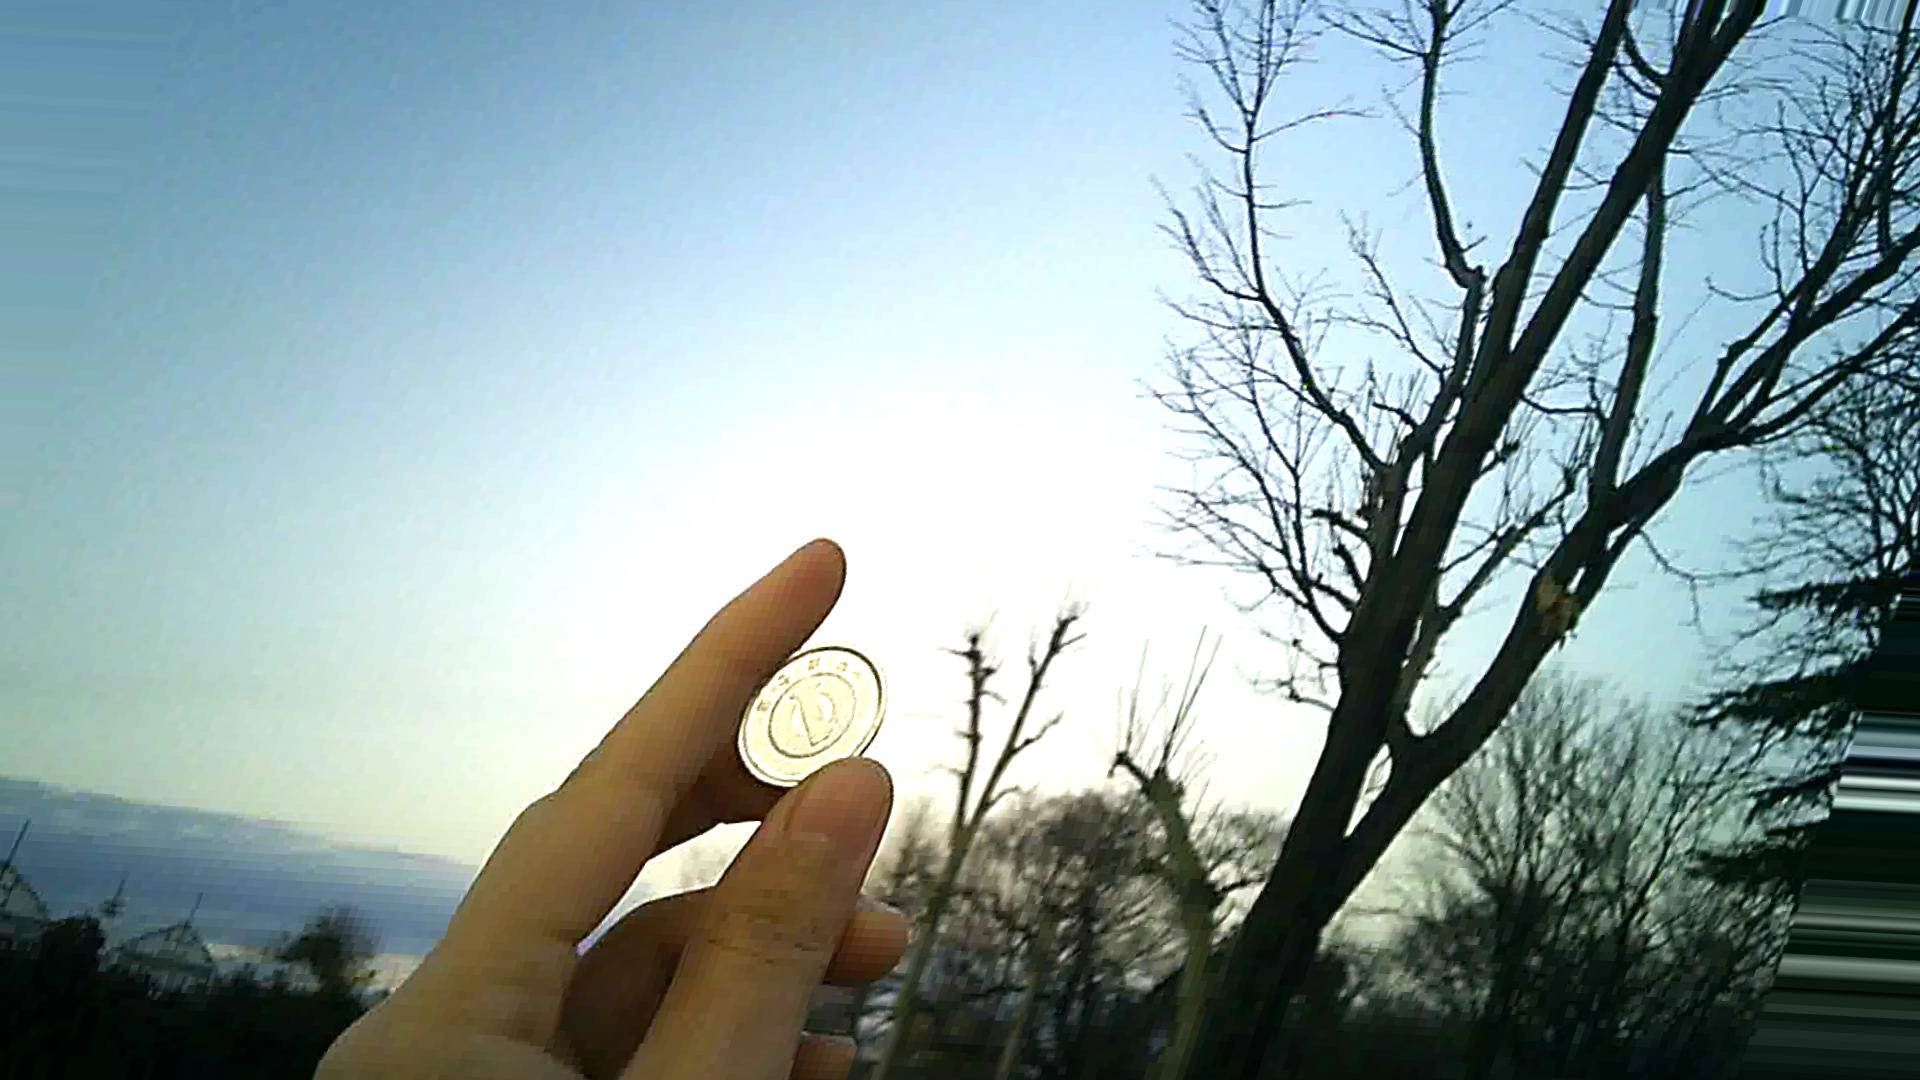1 Yen: (737, 618, 894, 779)
